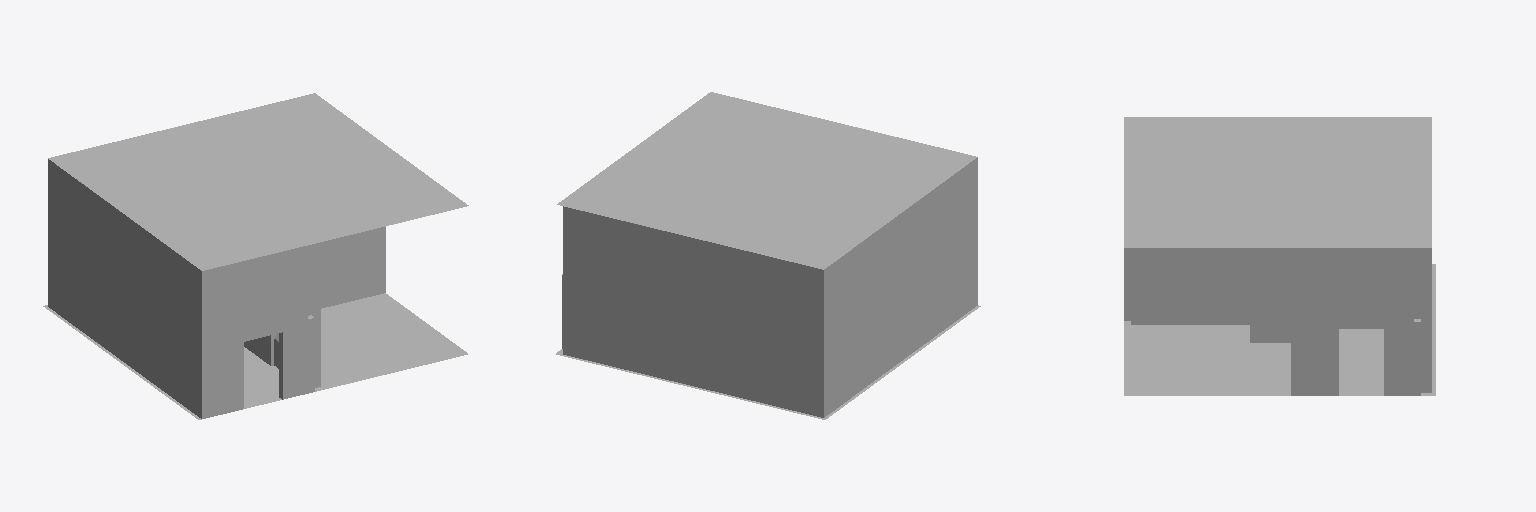
The model's file is LC_room2C_CB.obj.
3 views of the same model, side by side, from view 1: azimuth 30°, elevation 25°; view 2: azimuth 150°, elevation 25°; view 3: azimuth 270°, elevation 25° (orthographic).
Visible parts, largest first — view 1: grp3, grp2, grp1; view 2: grp3, grp2, grp1; view 3: grp2, grp3, grp1.
Boxes of the visible parts, x1,y1,x2,y2 form: grp3: [48, 95, 385, 418]; grp2: [48, 93, 468, 270]; grp1: [43, 293, 467, 419]; grp3: [562, 130, 977, 417]; grp2: [557, 92, 975, 269]; grp1: [556, 305, 980, 419]; grp2: [1124, 117, 1431, 247]; grp3: [1124, 117, 1431, 395]; grp1: [1124, 264, 1435, 395].
Bounding box in the file's own units: 1344 × 704 × 1344.